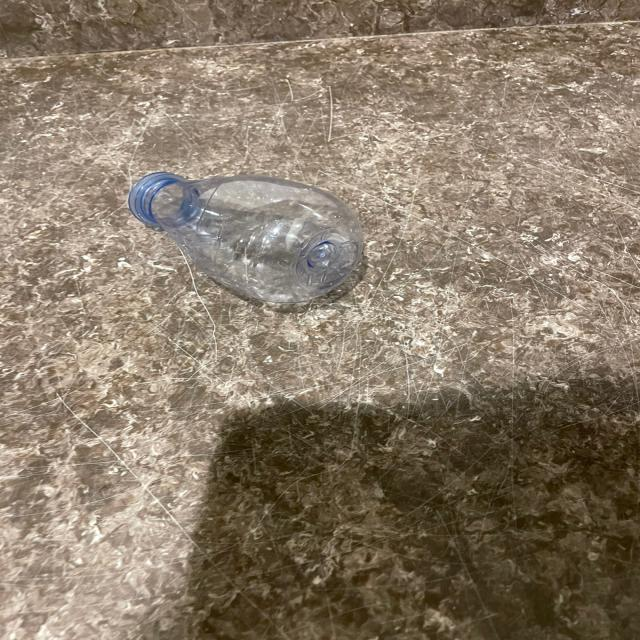chai: (129, 172, 362, 304)
